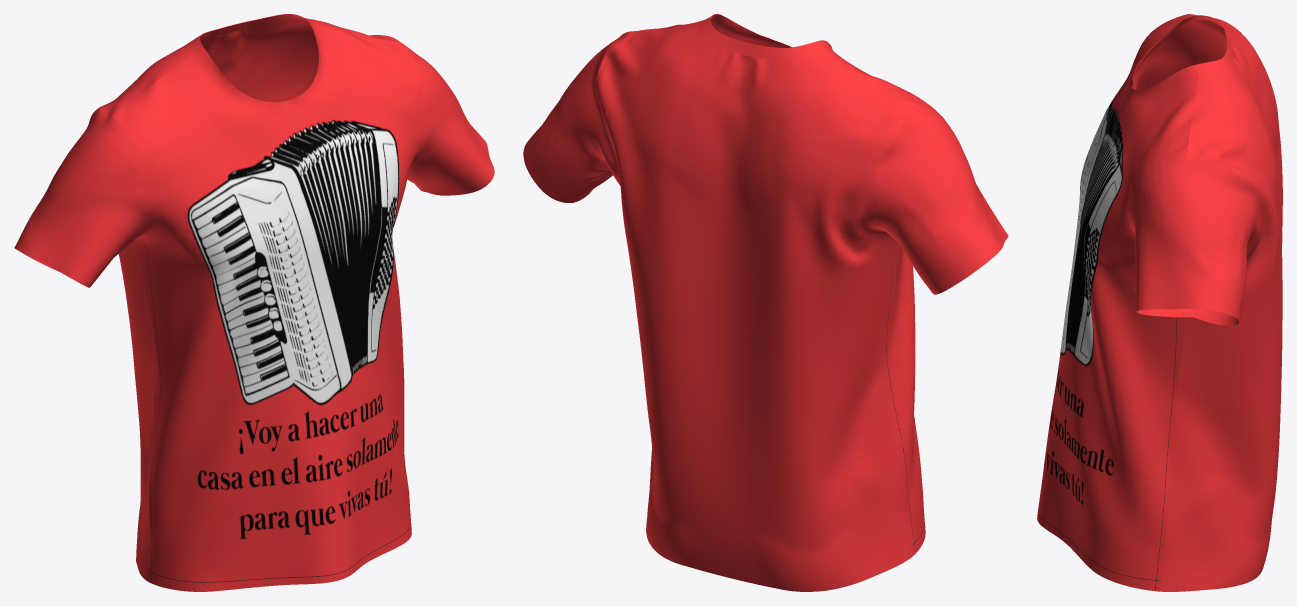
The model's file is camiseta1.fbx.
3 renders of one model, left to right at view 1: azimuth 30°, elevation 25°; view 2: azimuth 150°, elevation 25°; view 3: azimuth 270°, elevation 25°, orthographic. The views are drawn at different scales.
Visible parts, largest first — view 1: Body_Front_Node; view 2: Body_Front_Node; view 3: Body_Front_Node.
Part boxes in pixels (x1=…): Body_Front_Node: x1=14, y1=14, x2=494, y2=591; Body_Front_Node: x1=523, y1=14, x2=1008, y2=591; Body_Front_Node: x1=1037, y1=14, x2=1282, y2=591.
Size of the model in its own units: 65.3 by 70.16 by 30.91.
